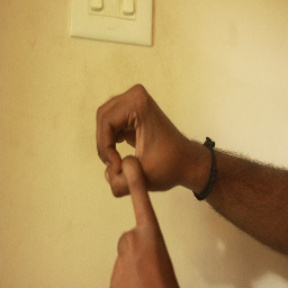Q: (91, 82, 190, 288)
